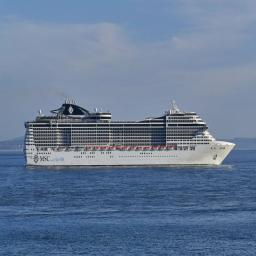cruises: (23, 98, 238, 171)
